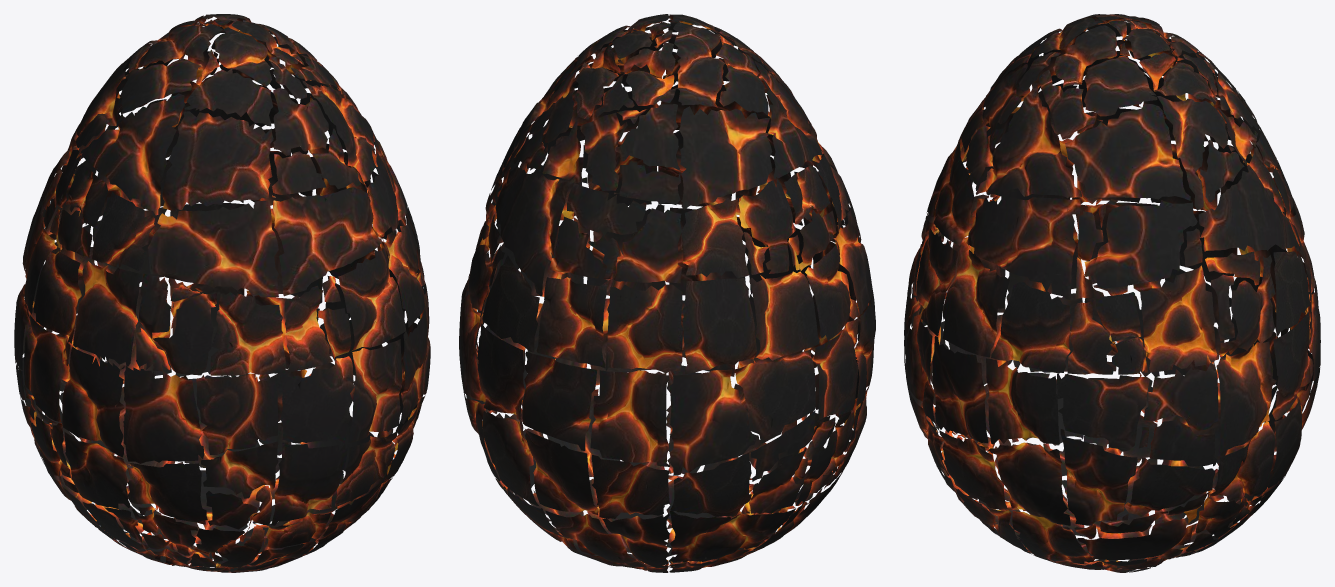
The model's file is oeuf.glb.
3 renders of one model, left to right at view 1: azimuth 30°, elevation 25°; view 2: azimuth 150°, elevation 25°; view 3: azimuth 270°, elevation 25°, orthographic.
Visible parts, largest first — view 1: mesh_node; view 2: mesh_node; view 3: mesh_node.
Boxes of the visible parts, x1,y1,x2,y2 form: mesh_node: [14, 14, 430, 572]; mesh_node: [459, 14, 875, 572]; mesh_node: [904, 14, 1320, 572].
Bounding box in the file's own units: 1.35 × 1.9 × 1.35.
Materials: 1 (1 with a texture image).
